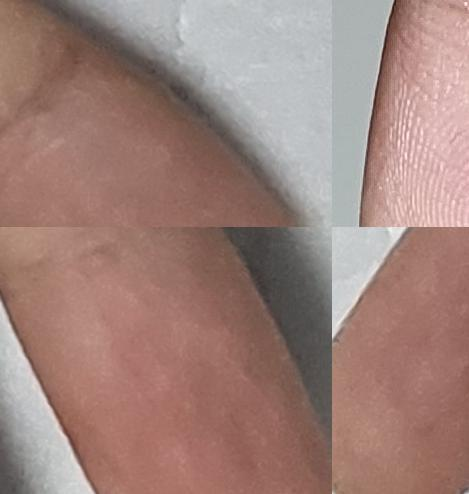Fingerprints: (2, 227, 332, 494), (0, 31, 299, 227), (332, 227, 469, 494), (359, 0, 469, 227)
